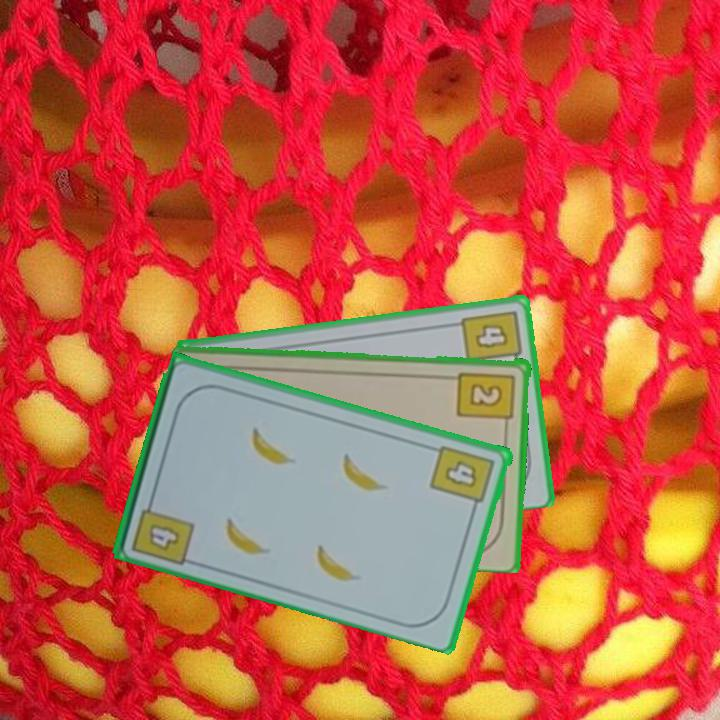2b: (455, 368, 518, 431)
4b: (427, 441, 499, 515), (128, 491, 197, 568), (458, 306, 524, 369)
